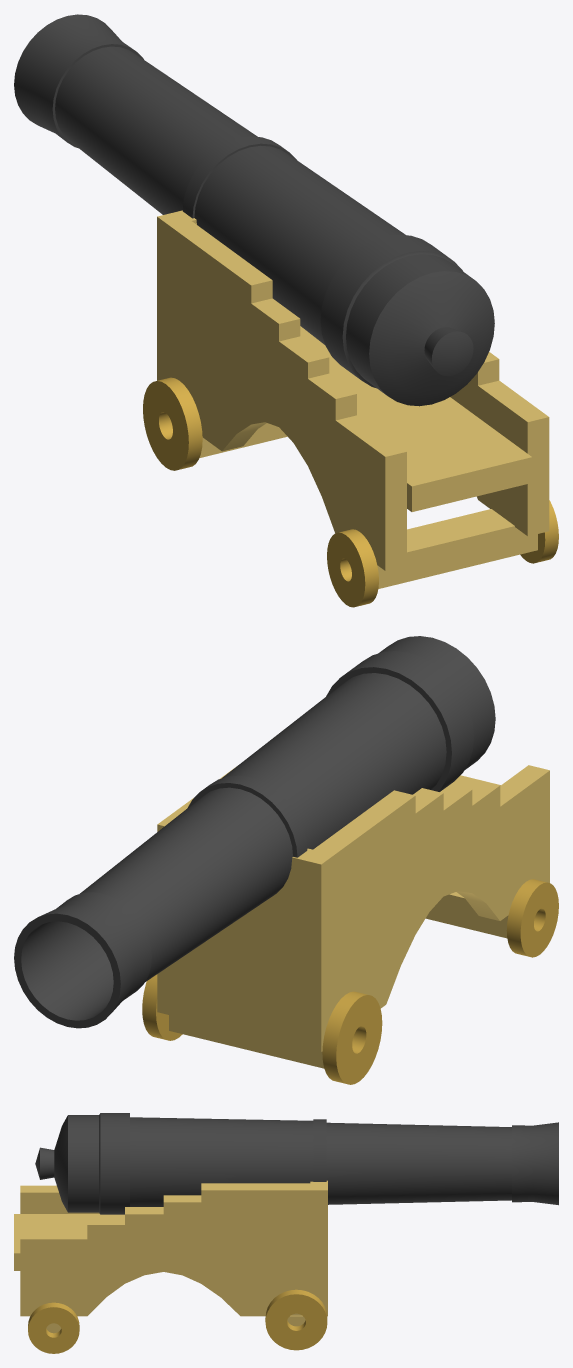
The model's file is cannon 1.fbx.
3 views of the same model, one above another, from view 1: azimuth 30°, elevation 25°; view 2: azimuth 150°, elevation 25°; view 3: azimuth 270°, elevation 25° (orthographic). The views are drawn at different scales.
Parts seen in each view (by area): view 1: cannon_gun, cannon_bottom, cannon_wheel.002, cannon_wheel.001, cannon_wheel; view 2: cannon_gun, cannon_bottom, cannon_wheel.002, cannon_wheel.001, cannon_wheel.003; view 3: cannon_gun, cannon_bottom, cannon_wheel.003, cannon_wheel.
Boxes of the visible parts, box(x1,y1,x2,y2) form: cannon_gun: box(14, 14, 494, 406); cannon_bottom: box(157, 210, 549, 588); cannon_wheel.002: box(143, 377, 202, 470); cannon_wheel.001: box(327, 529, 378, 607); cannon_wheel: box(520, 500, 558, 563); cannon_gun: box(14, 636, 495, 1028); cannon_bottom: box(157, 765, 549, 1068); cannon_wheel.002: box(322, 991, 382, 1084); cannon_wheel.001: box(506, 879, 558, 957); cannon_wheel.003: box(142, 974, 182, 1040); cannon_gun: box(35, 1113, 558, 1214); cannon_bottom: box(14, 1180, 327, 1333); cannon_wheel.003: box(265, 1289, 327, 1350); cannon_wheel: box(28, 1302, 79, 1353).
Bounding box in the file's own units: 308 × 461 × 1114.
